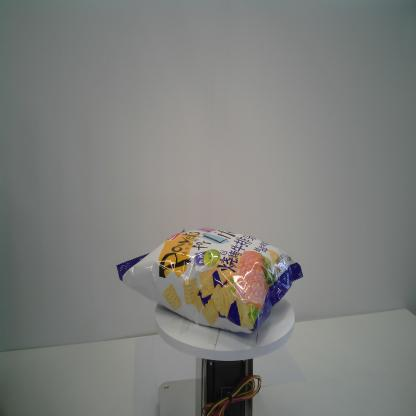Puffed Food: (117, 224, 303, 347)
